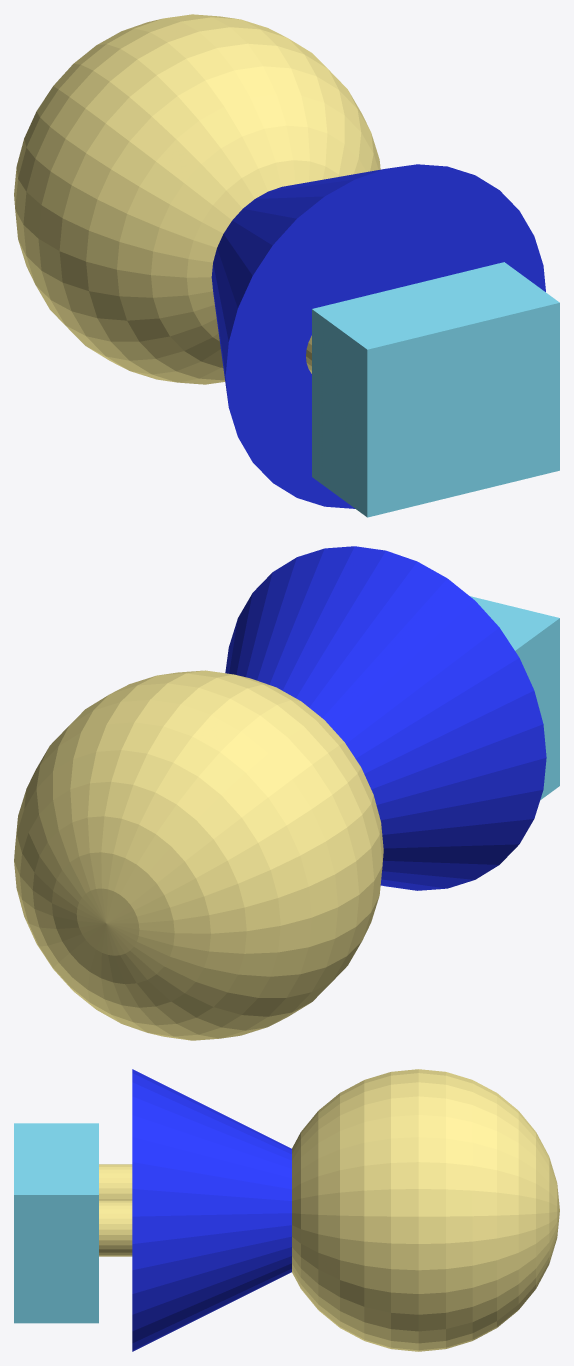
The model's file is test_player.fbx.
3 renders of one model, top to bottom at view 1: azimuth 30°, elevation 25°; view 2: azimuth 150°, elevation 25°; view 3: azimuth 270°, elevation 25°, orthographic. The views are drawn at different scales.
Parts seen in each view (by area): view 1: 立方体; view 2: 立方体; view 3: 立方体.
Boxes of the visible parts, box(x1,y1,x2,y2) form: 立方体: box(14, 14, 559, 517); 立方体: box(14, 546, 559, 1040); 立方体: box(14, 1069, 559, 1351).
Size of the model in its own units: 50 by 50 by 96.48.
Materials: 3 (3 with a texture image).
